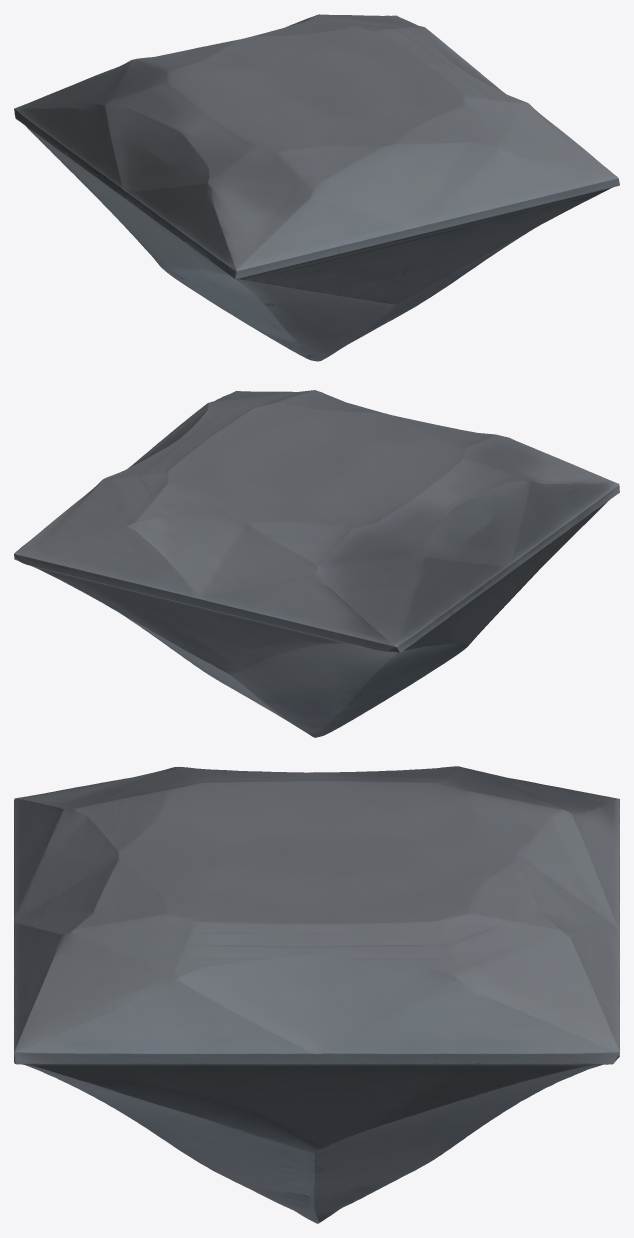
The model's file is gem-princess.glb.
3 renders of one model, top to bottom at view 1: azimuth 30°, elevation 25°; view 2: azimuth 150°, elevation 25°; view 3: azimuth 270°, elevation 25°, orthographic. The views are drawn at different scales.
Parts seen in each view (by area): view 1: model; view 2: model; view 3: model.
Part boxes in pixels (box(x1,y1,x2,y2)): model: box(14, 14, 619, 361); model: box(14, 390, 619, 737); model: box(14, 766, 619, 1223).
Size of the model in its own units: 1.9 by 1.28 by 1.9.
1 material, 1 textured.
